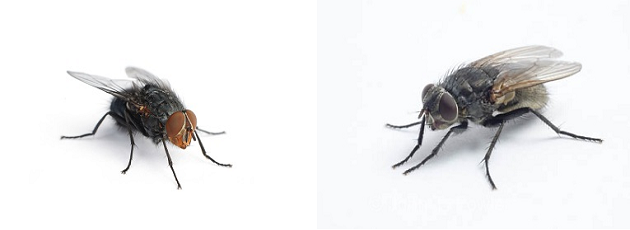fly: (375, 41, 608, 208), (52, 60, 240, 194)
